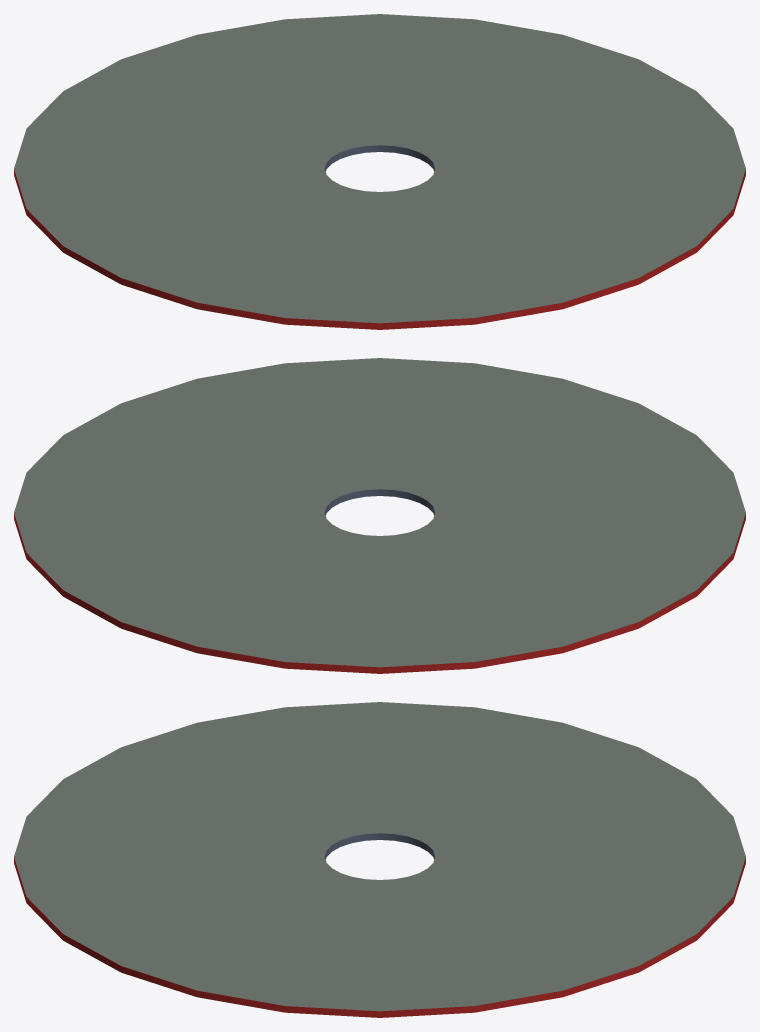
3 views of the same model, one above another, from view 1: azimuth 30°, elevation 25°; view 2: azimuth 150°, elevation 25°; view 3: azimuth 270°, elevation 25° (orthographic).
Visible parts, largest first — view 1: CD; view 2: CD; view 3: CD.
Part boxes in pixels (x1,y1,x2,y2): CD: (14, 14, 745, 329); CD: (14, 358, 745, 673); CD: (14, 702, 745, 1017).
Size of the model in its own units: 24 by 0.24 by 24.
